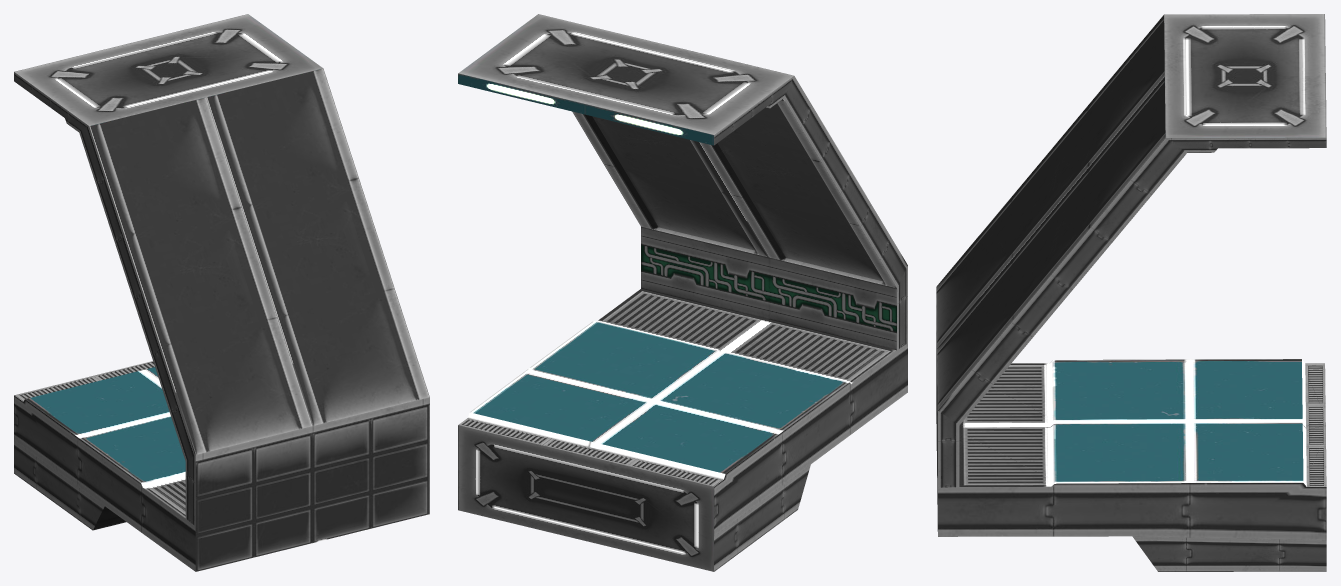
Rendered from ARC1110022.fbx.
3 views of the same model, side by side, from view 1: azimuth 30°, elevation 25°; view 2: azimuth 150°, elevation 25°; view 3: azimuth 270°, elevation 25° (orthographic). The views are drawn at different scales.
Visible parts, largest first — view 1: smARC1110022; view 2: smARC1110022; view 3: smARC1110022.
Boxes of the visible parts, x1=… form: smARC1110022: x1=14, y1=14, x2=429, y2=571; smARC1110022: x1=458, y1=14, x2=907, y2=571; smARC1110022: x1=936, y1=14, x2=1326, y2=571.
Size of the model in its own units: 200 by 326 by 265.
1 material, 1 textured.
